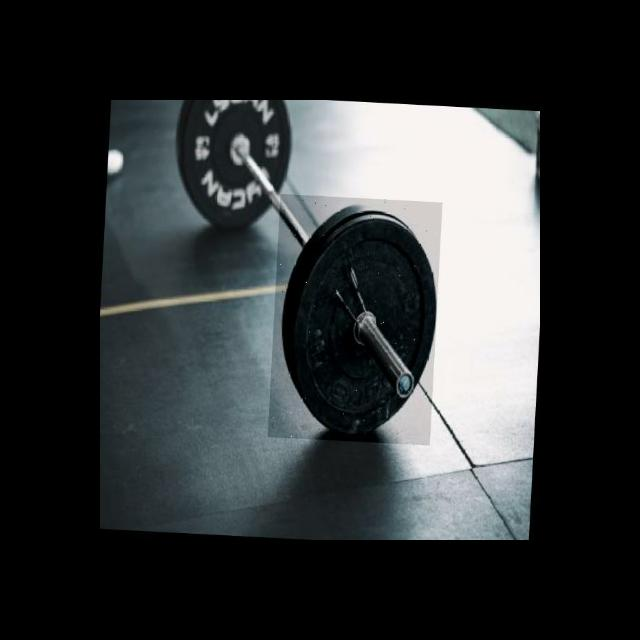barbell: (268, 194, 443, 446)
